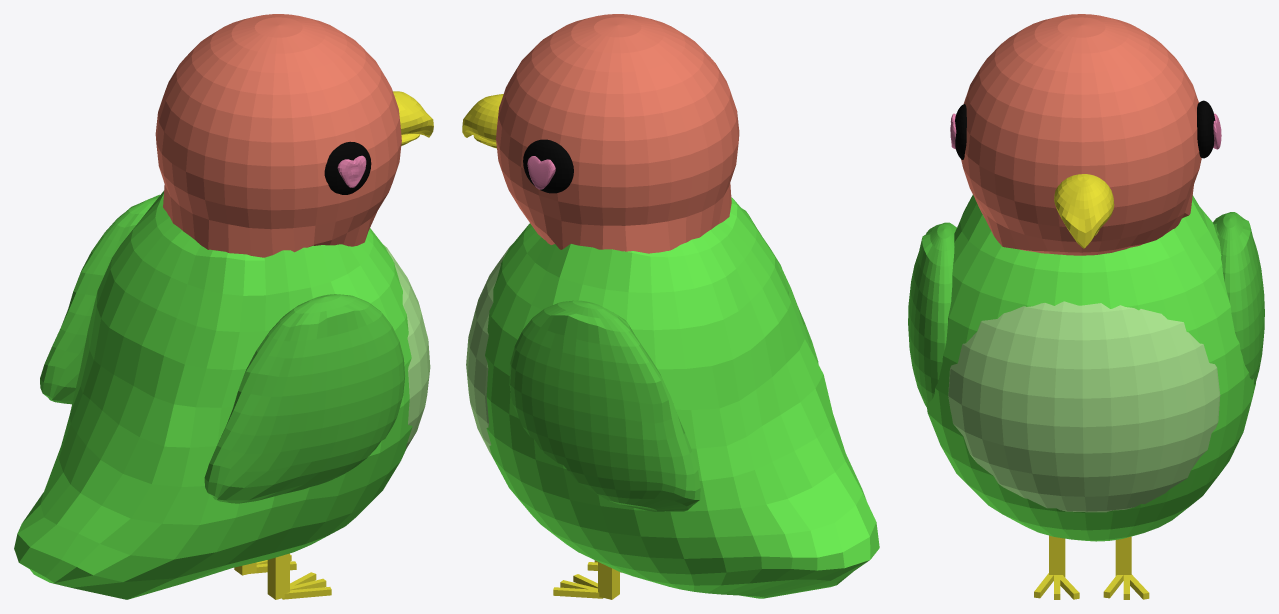
Rendered from lovebird.fbx.
3 renders of one model, left to right at view 1: azimuth 30°, elevation 25°; view 2: azimuth 150°, elevation 25°; view 3: azimuth 270°, elevation 25°, orthographic.
Visible parts, largest first — view 1: Cube.001; view 2: Cube.001; view 3: Cube.001.
Part boxes in pixels (box(x1,y1,x2,y2)): Cube.001: box(14, 14, 433, 599); Cube.001: box(462, 14, 879, 599); Cube.001: box(908, 14, 1264, 599).
Bounding box in the file's own units: 271 × 353 × 204.
